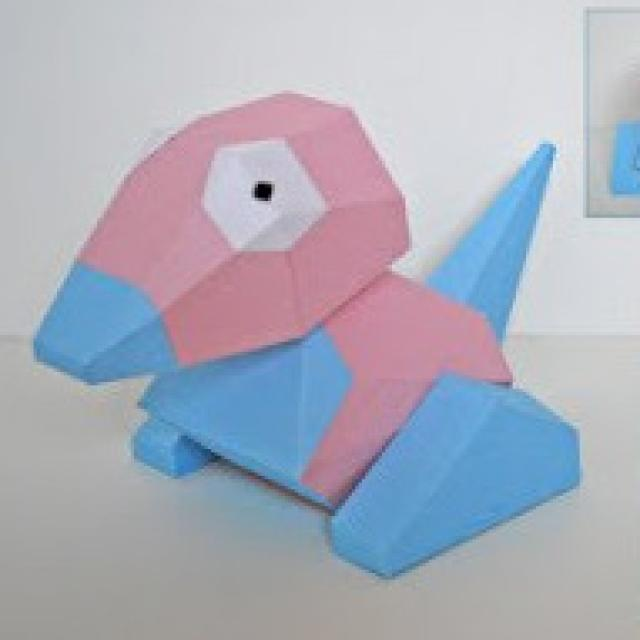Porygon: (26, 94, 584, 552)
